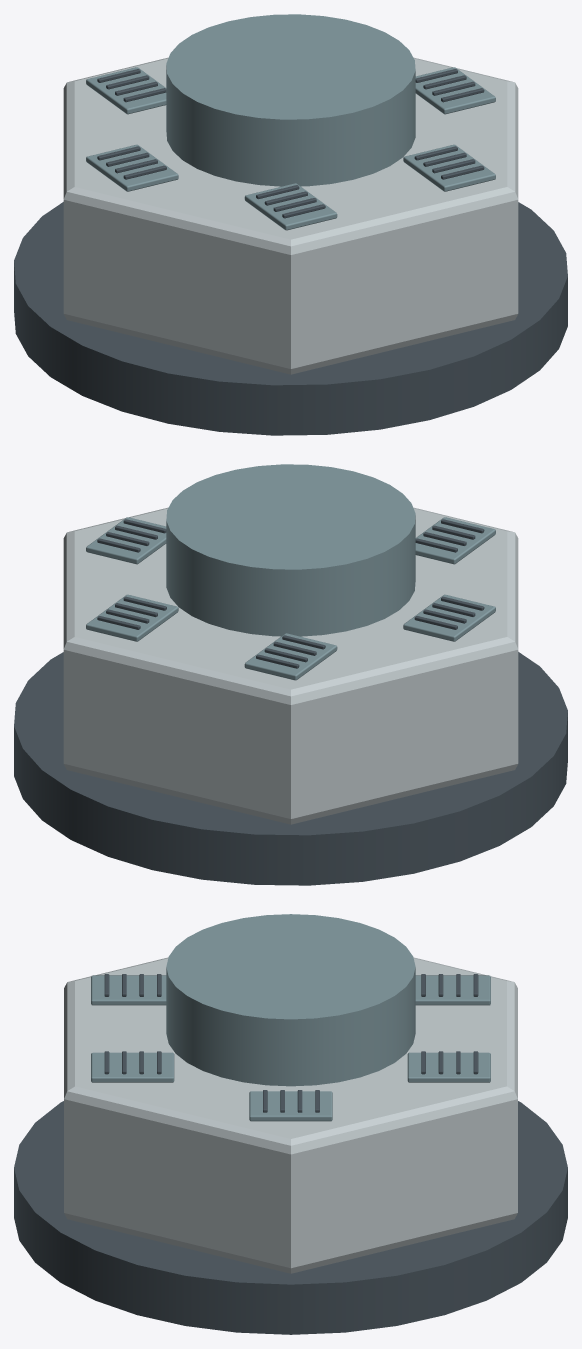
The picture shows the model from 3 angles, top to bottom: view 1: azimuth 30°, elevation 25°; view 2: azimuth 150°, elevation 25°; view 3: azimuth 270°, elevation 25°; orthographic projection.
Parts seen in each view (by area): view 1: station-core; view 2: station-core; view 3: station-core.
Part boxes in pixels (bbox=[...]): station-core: bbox=[14, 14, 567, 435]; station-core: bbox=[14, 464, 567, 885]; station-core: bbox=[14, 914, 567, 1334].
Bounding box in the file's own units: 6 × 3 × 6.
